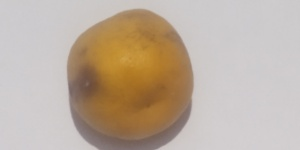BAD: (68, 8, 196, 141)
